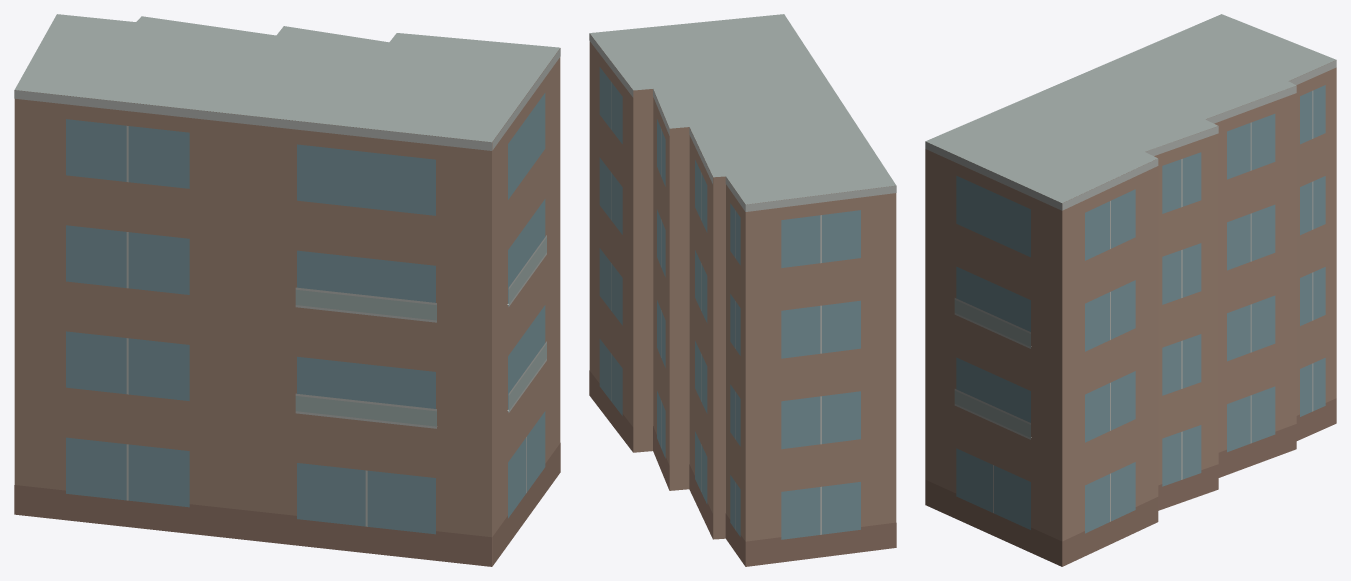
Rendered from survey-upis-32855498.glb.
3 views of the same model, side by side, from view 1: azimuth 30°, elevation 25°; view 2: azimuth 150°, elevation 25°; view 3: azimuth 270°, elevation 25° (orthographic). The views are drawn at different scales.
Visible parts, largest first — view 1: survey-upis-32855498.tmp; view 2: survey-upis-32855498.tmp; view 3: survey-upis-32855498.tmp.
Boxes of the visible parts, x1,y1,x2,y2 form: survey-upis-32855498.tmp: (14, 14, 560, 566); survey-upis-32855498.tmp: (589, 14, 896, 566); survey-upis-32855498.tmp: (925, 14, 1336, 566).
Size of the model in its own units: 13.18 by 11.8 by 12.11.
